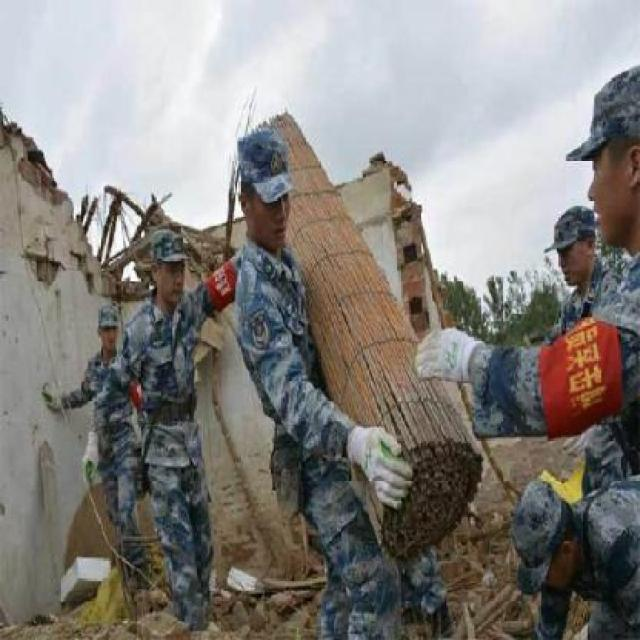face_nomask: (586, 135, 636, 248), (251, 178, 295, 254), (558, 232, 588, 294), (154, 260, 188, 306), (102, 324, 118, 356)
hand_glove: (357, 422, 412, 509), (412, 323, 477, 388), (40, 378, 63, 416), (81, 440, 97, 491)
head_nohelmet: (231, 126, 297, 194), (547, 207, 591, 251), (150, 228, 192, 268), (92, 302, 128, 330)
person: (220, 120, 431, 640), (118, 226, 237, 640), (69, 308, 146, 575)
